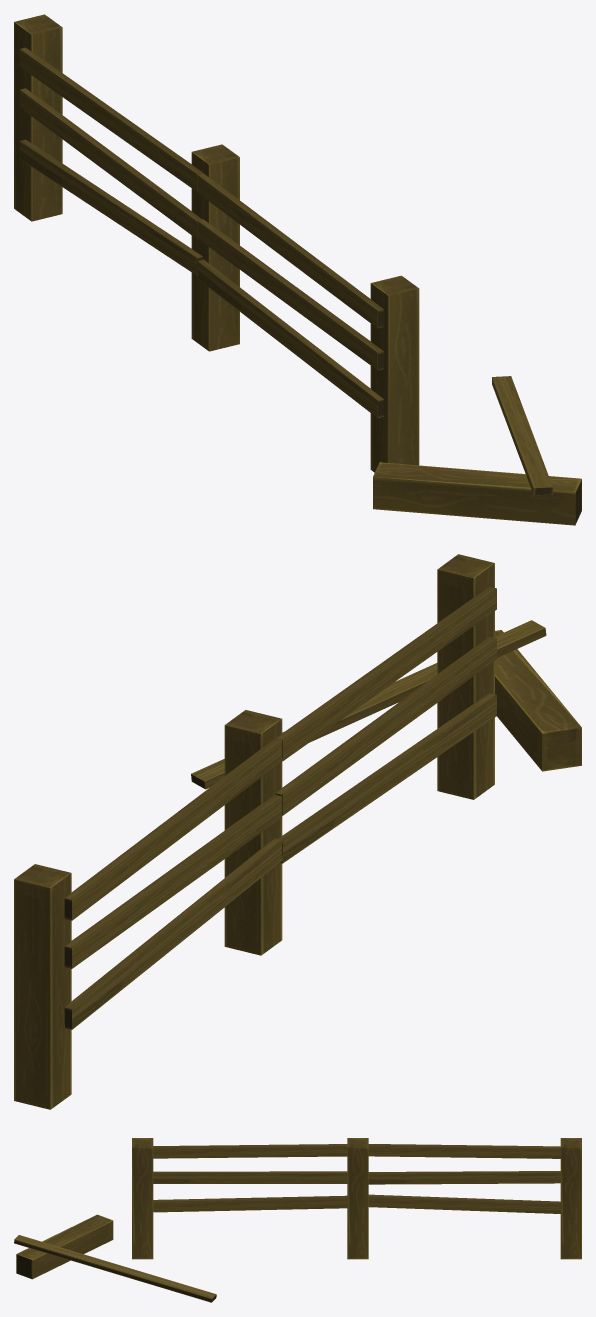
File: fence1.glb
3 renders of one model, top to bottom at view 1: azimuth 30°, elevation 25°; view 2: azimuth 150°, elevation 25°; view 3: azimuth 270°, elevation 25°, orthographic. The views are drawn at different scales.
Visible parts, largest first — view 1: fence_p1.009, fence_p1.007, fence_p1.001, fence_p1.003, fence_p1.008, fence_p1.005, fence_p1.006, fence_p1.002, fence_p1, fence_p1.004, fence_p1.010; view 2: fence_p1.001, fence_p1.003, fence_p1.007, fence_p1.009, fence_p1.004, fence_p1, fence_p1.002, fence_p1.006, fence_p1.005, fence_p1.008, fence_p1.010; view 3: fence_p1.003, fence_p1.007, fence_p1.001, fence_p1.009, fence_p1.008, fence_p1.005, fence_p1.004, fence_p1.002, fence_p1, fence_p1.006, fence_p1.010.
Part boxes in pixels (<box>): fence_p1.009: <box>373,462,581,525</box>; fence_p1.007: <box>370,275,419,472</box>; fence_p1.001: <box>14,14,62,221</box>; fence_p1.003: <box>191,144,239,351</box>; fence_p1.008: <box>197,259,383,418</box>; fence_p1.005: <box>197,173,383,328</box>; fence_p1.006: <box>197,219,383,370</box>; fence_p1.002: <box>19,88,201,238</box>; fence_p1: <box>19,47,202,191</box>; fence_p1.004: <box>19,139,202,275</box>; fence_p1.010: <box>492,376,552,495</box>; fence_p1.001: <box>14,864,71,1109</box>; fence_p1.003: <box>224,710,282,955</box>; fence_p1.007: <box>437,554,494,799</box>; fence_p1.009: <box>495,630,581,771</box>; fence_p1.004: <box>64,838,282,1029</box>; fence_p1: <box>64,738,282,920</box>; fence_p1.002: <box>64,794,282,968</box>; fence_p1.006: <box>275,636,496,815</box>; fence_p1.005: <box>276,586,496,760</box>; fence_p1.008: <box>278,693,496,863</box>; fence_p1.010: <box>191,620,546,789</box>; fence_p1.003: <box>347,1138,368,1259</box>; fence_p1.007: <box>132,1138,153,1259</box>; fence_p1.001: <box>560,1138,581,1259</box>; fence_p1.009: <box>16,1214,113,1279</box>; fence_p1.008: <box>153,1195,347,1212</box>; fence_p1.005: <box>153,1144,347,1158</box>; fence_p1.004: <box>368,1194,560,1213</box>; fence_p1.002: <box>368,1171,560,1184</box>; fence_p1: <box>368,1144,560,1158</box>; fence_p1.006: <box>153,1171,347,1183</box>; fence_p1.010: <box>14,1235,216,1302</box>.
Bounding box in the file's own units: 4.58 × 3.49 × 16.02.
Materials: 1 (1 with a texture image).
